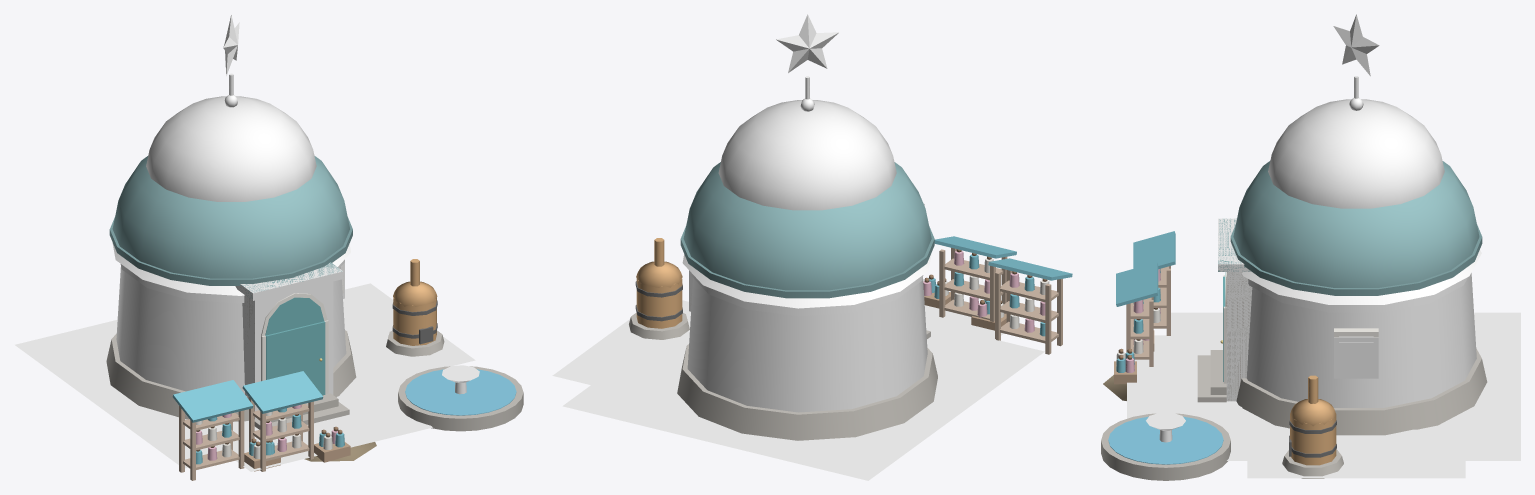
The model's file is spa_3.glb.
The picture shows the model from 3 angles, left to right: view 1: azimuth 30°, elevation 25°; view 2: azimuth 150°, elevation 25°; view 3: azimuth 270°, elevation 25°; orthographic projection. The views are drawn at different scales.
Parts seen in each view (by area): view 1: body4, when_plan_true, spa_3, body3, body2, body; view 2: when_plan_true, body4, spa_3, body3, body2, body; view 3: body4, when_plan_true, spa_3, body3.
Boxes of the visible parts, <box> form: body4: <box>106,156,523,480</box>; when_plan_true: <box>112,15,479,418</box>; spa_3: <box>15,283,475,471</box>; body3: <box>196,404,350,471</box>; body2: <box>196,414,301,444</box>; body: <box>196,433,301,464</box>; when_plan_true: <box>682,14,931,412</box>; body4: <box>629,162,1072,440</box>; spa_3: <box>552,300,1044,480</box>; body3: <box>923,249,1049,330</box>; body2: <box>954,272,1045,315</box>; body: <box>954,292,1045,336</box>; body4: <box>1101,161,1487,480</box>; when_plan_true: <box>1146,14,1481,442</box>; spa_3: <box>1127,312,1520,478</box>; body3: <box>1114,269,1160,384</box>.
Size of the model in its own units: 2.69 by 2.74 by 2.8.
